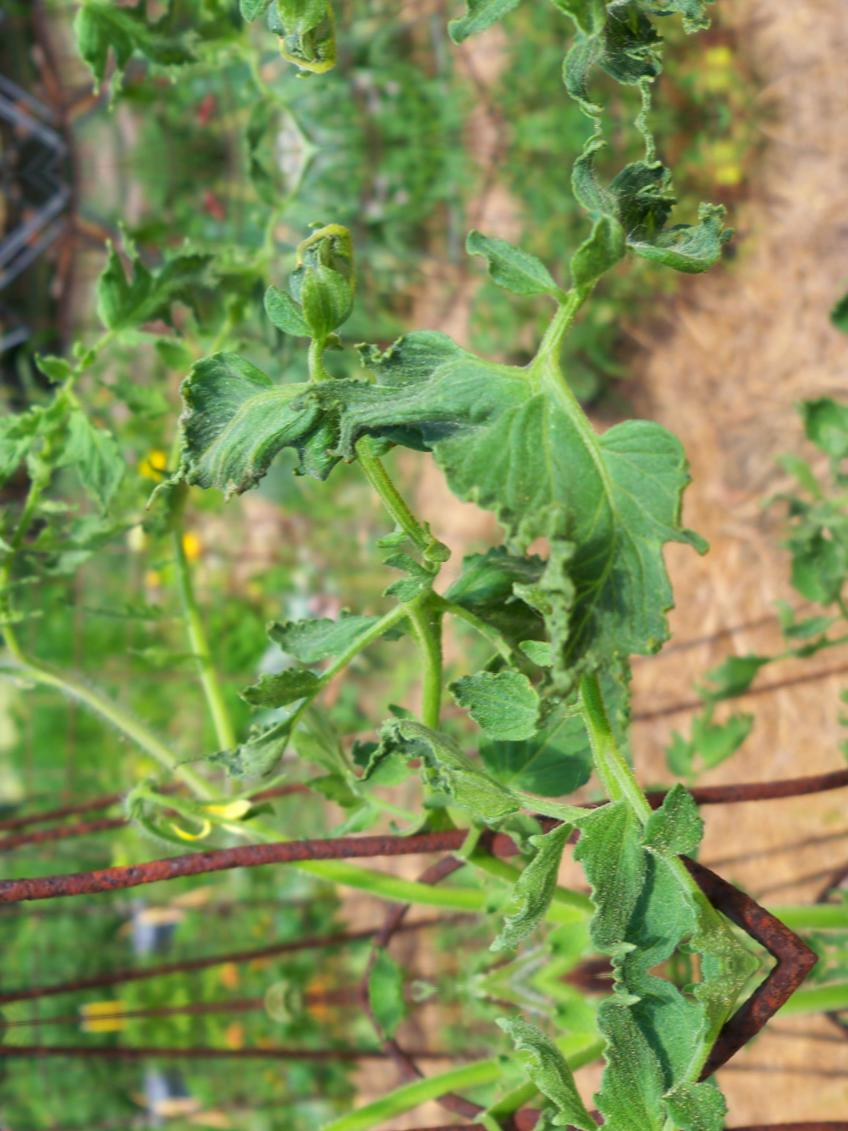Tomato leaf mosaic virus: (425, 347, 702, 674), (132, 319, 557, 512), (533, 114, 757, 298), (566, 786, 727, 965), (444, 660, 546, 754), (252, 605, 389, 668)
